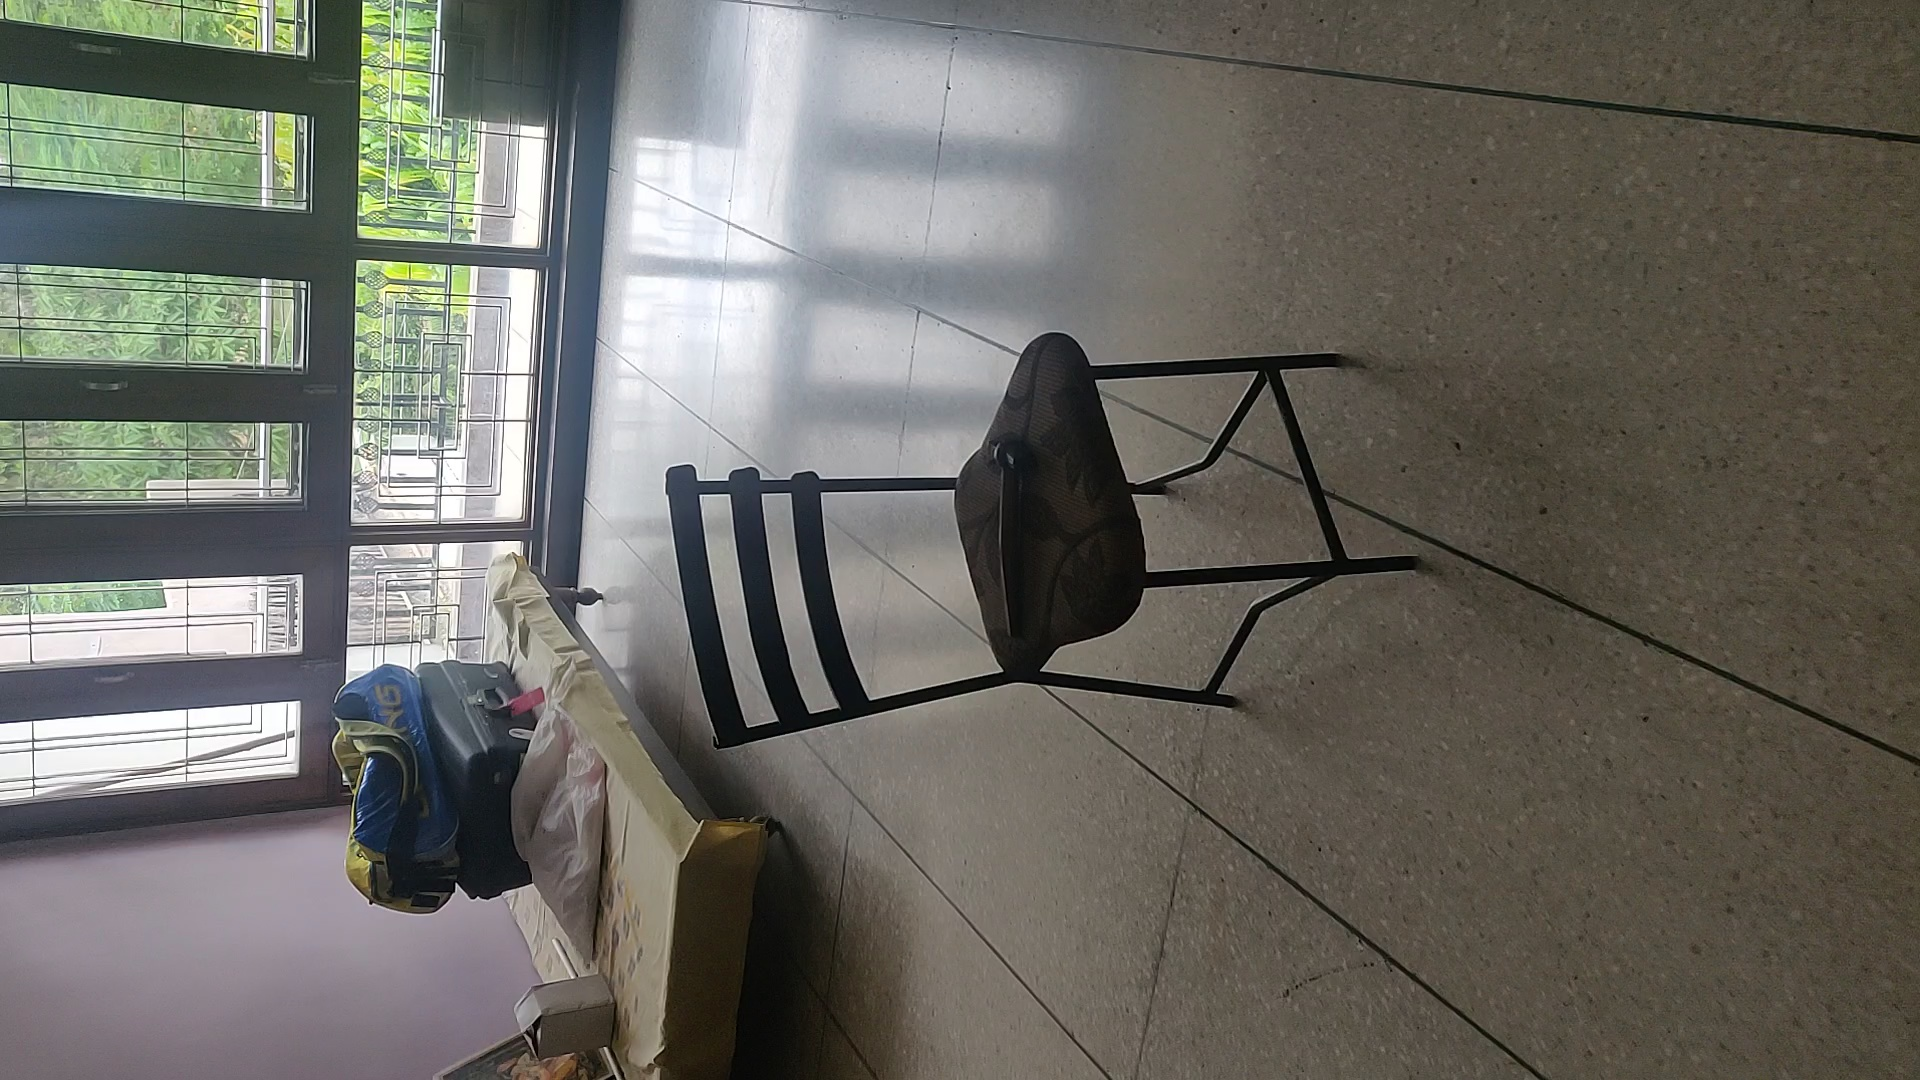hammer: (984, 431, 1044, 644)
